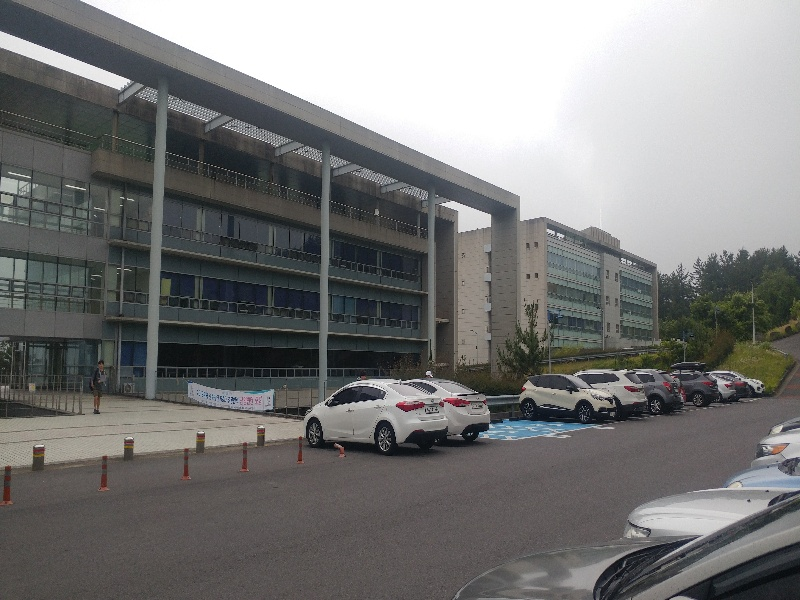College of Marine Science: (463, 218, 663, 350), (522, 221, 653, 342)
Engineering College Building 4: (10, 59, 434, 380)
